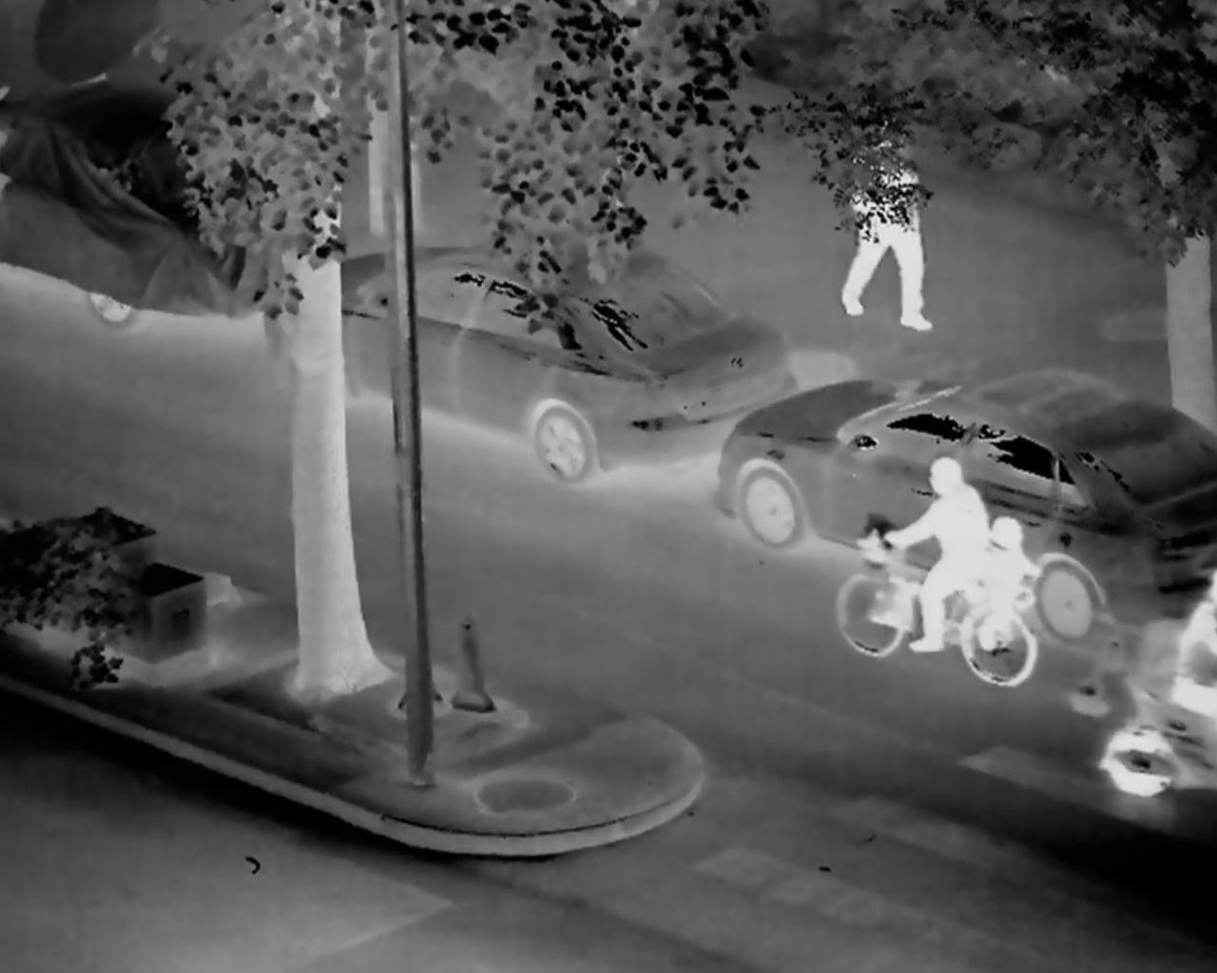person: (825, 94, 937, 349), (883, 453, 993, 656), (976, 503, 1036, 636), (1171, 565, 1217, 715)
